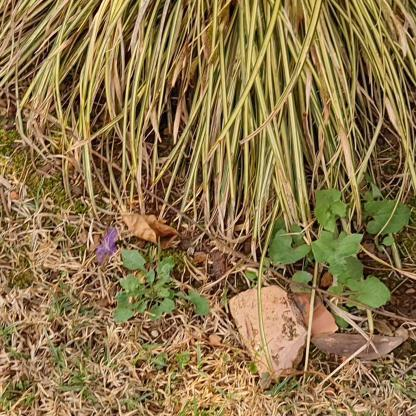Weeds: (268, 188, 411, 327), (112, 250, 210, 323)
